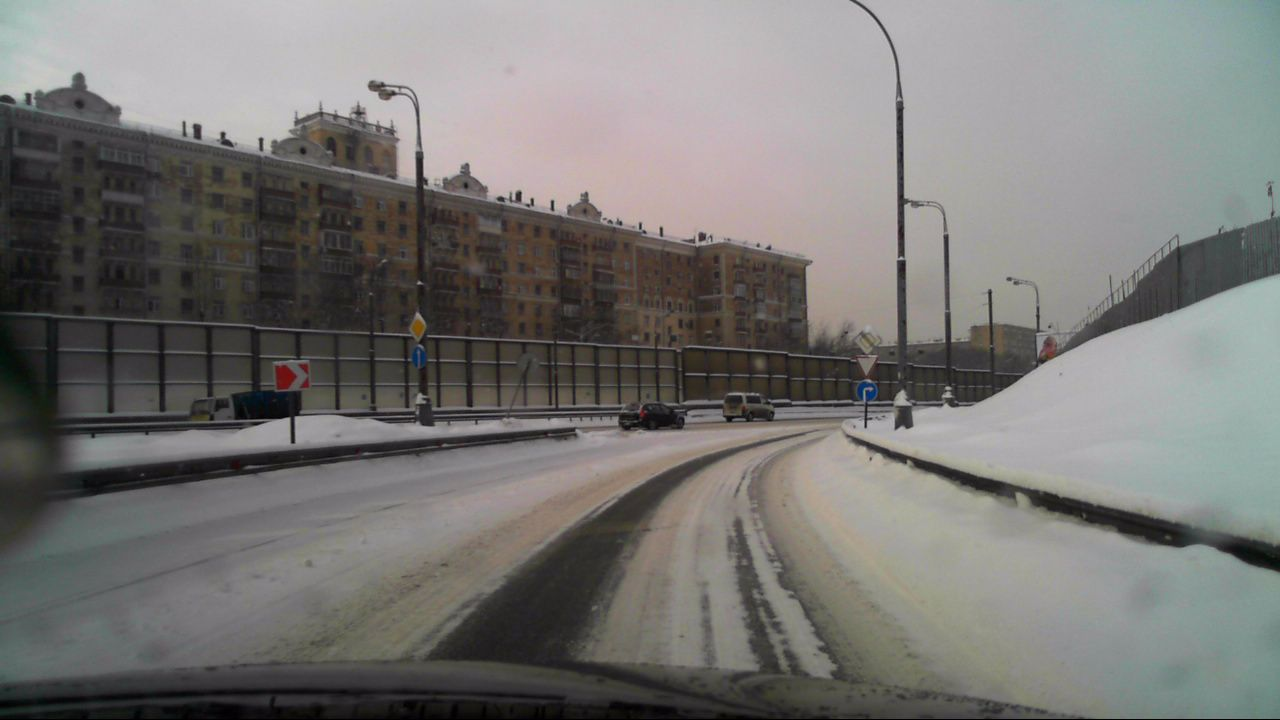main road: (856, 325, 879, 356)
